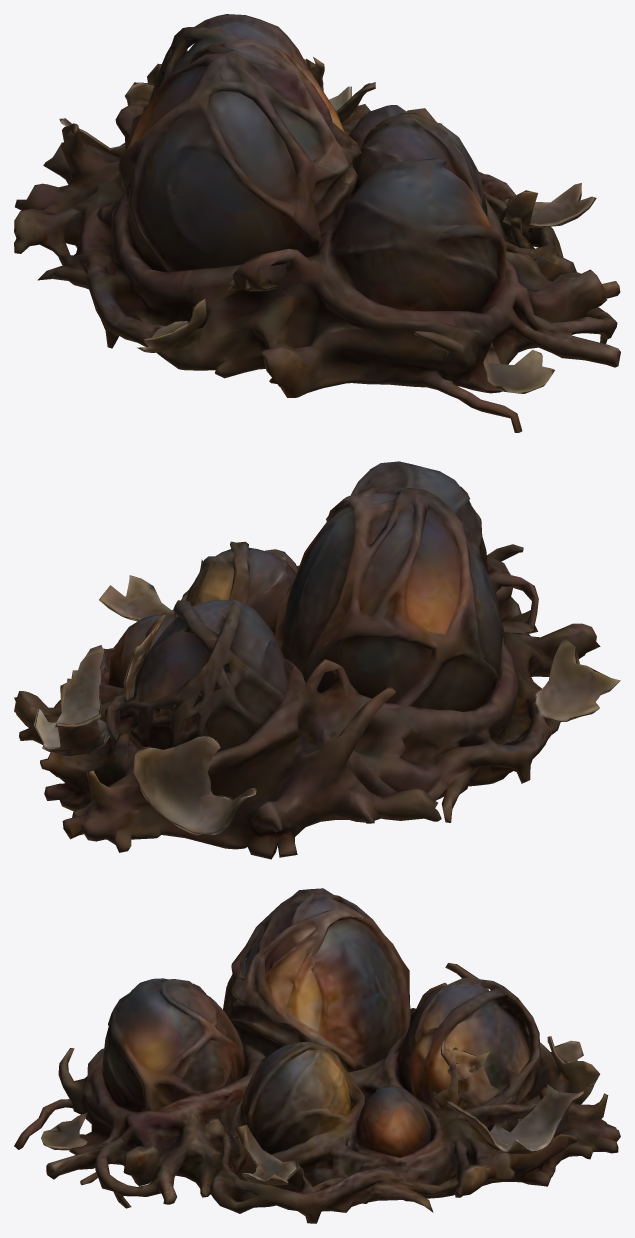
File: monster-egg-nest.glb
The picture shows the model from 3 angles, top to bottom: view 1: azimuth 30°, elevation 25°; view 2: azimuth 150°, elevation 25°; view 3: azimuth 270°, elevation 25°; orthographic projection. The views are drawn at different scales.
Parts seen in each view (by area): view 1: tripo_node_73beb421-5b98-44d9-a0d3-5b874cdb0cdc; view 2: tripo_node_73beb421-5b98-44d9-a0d3-5b874cdb0cdc; view 3: tripo_node_73beb421-5b98-44d9-a0d3-5b874cdb0cdc.
Boxes of the visible parts, bbox=[...] form: tripo_node_73beb421-5b98-44d9-a0d3-5b874cdb0cdc: bbox=[14, 14, 620, 432]; tripo_node_73beb421-5b98-44d9-a0d3-5b874cdb0cdc: bbox=[14, 461, 620, 859]; tripo_node_73beb421-5b98-44d9-a0d3-5b874cdb0cdc: bbox=[14, 888, 620, 1223].
Size of the model in its own units: 0.7306 by 0.3938 by 1.
1 material, 1 textured.
